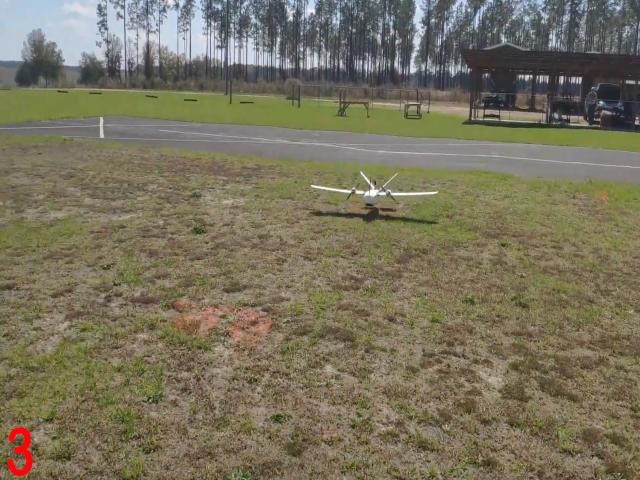plane: (309, 172, 438, 206)
